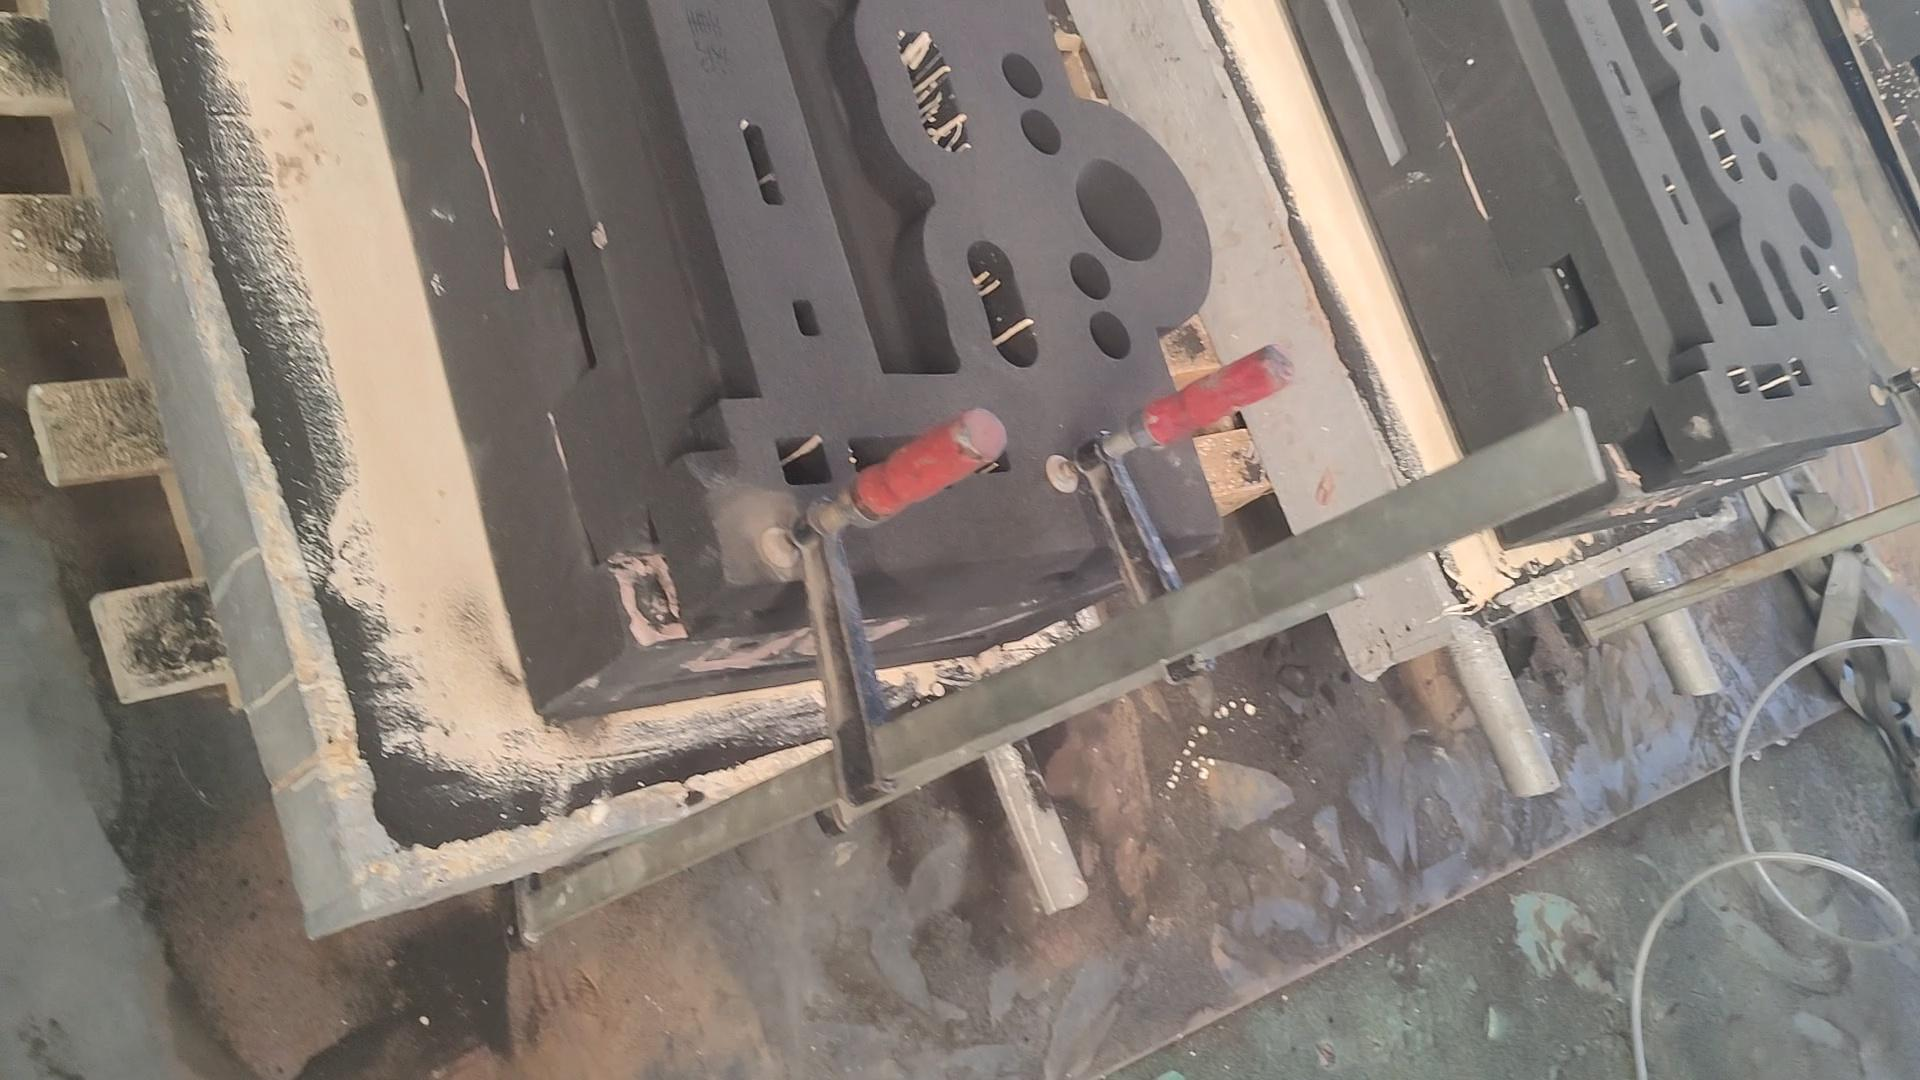pouring hole: (1076, 160, 1163, 262), (1789, 182, 1836, 249)
